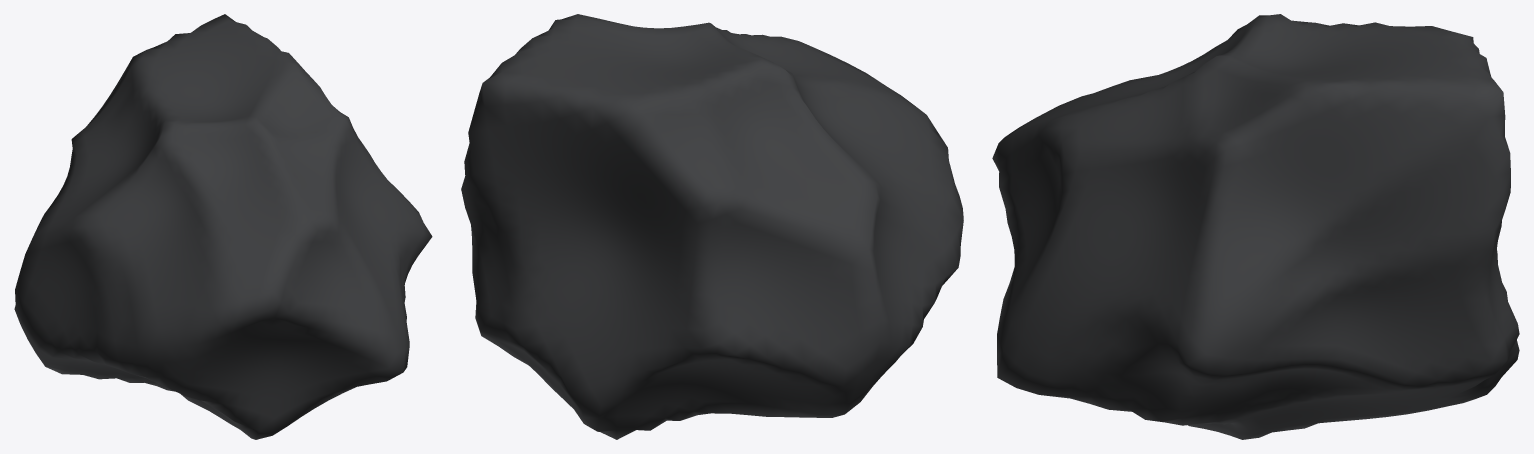
File: Sem4_Environment_Stein03_JT.fbx
The picture shows the model from 3 angles, left to right: view 1: azimuth 30°, elevation 25°; view 2: azimuth 150°, elevation 25°; view 3: azimuth 270°, elevation 25°; orthographic projection. The views are drawn at different scales.
Parts seen in each view (by area): view 1: Stein03_JT; view 2: Stein03_JT; view 3: Stein03_JT.
Part boxes in pixels (x1,y1,x2,y2): Stein03_JT: (14,14,432,439); Stein03_JT: (461,14,963,439); Stein03_JT: (992,14,1519,439).
Bounding box in the file's own units: 35.08 × 28.29 × 33.43.
